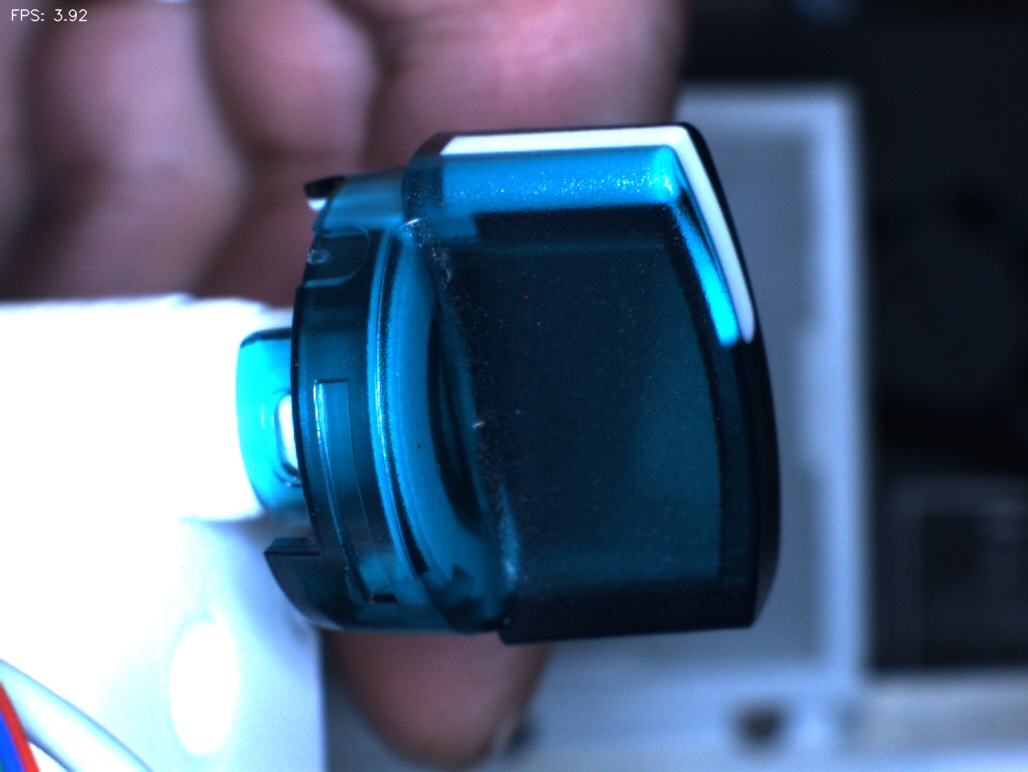PointNoir: (391, 409, 450, 482)
